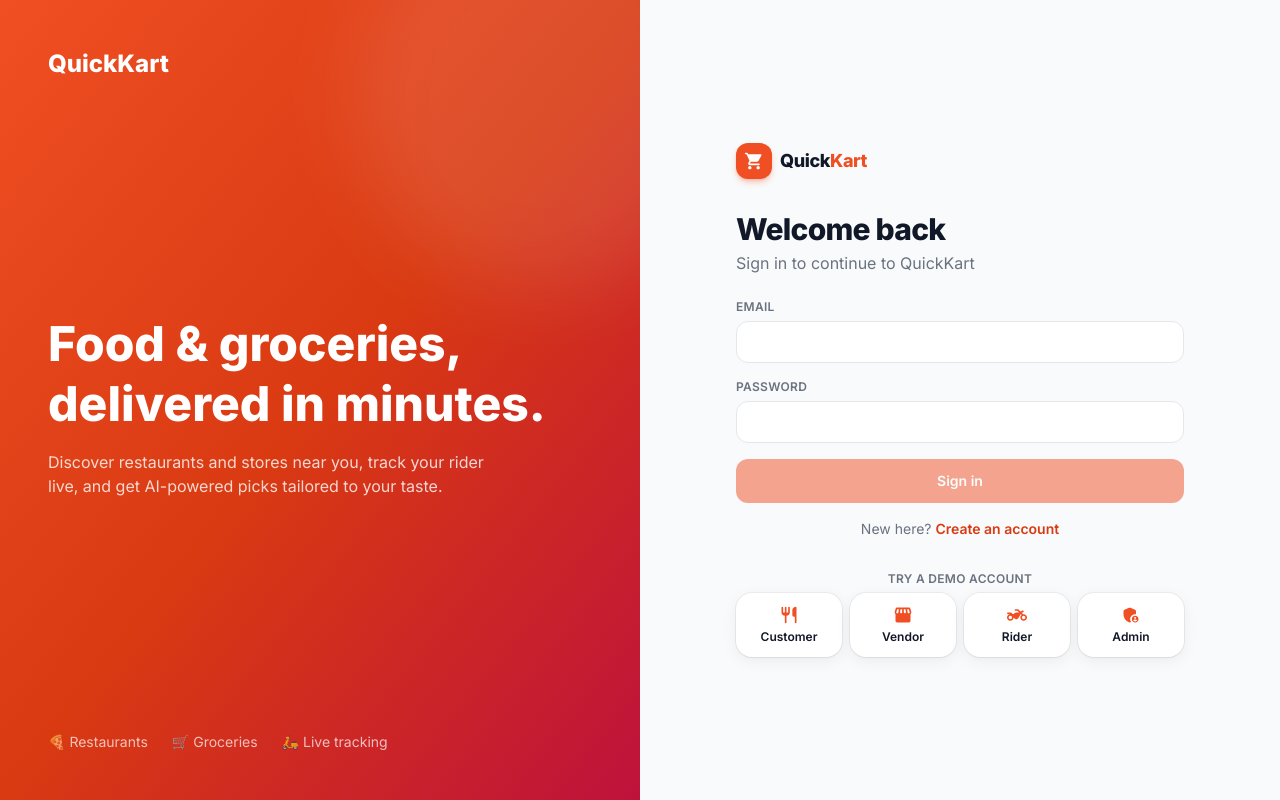
Scenario: Login page › shows the API error message on bad credentials
The width and height of the screenshot is (1280, 800).
Step 1. Type "x@y.com" into the field labelled "Email" → (960, 342), box 736,321 -> 1184,363
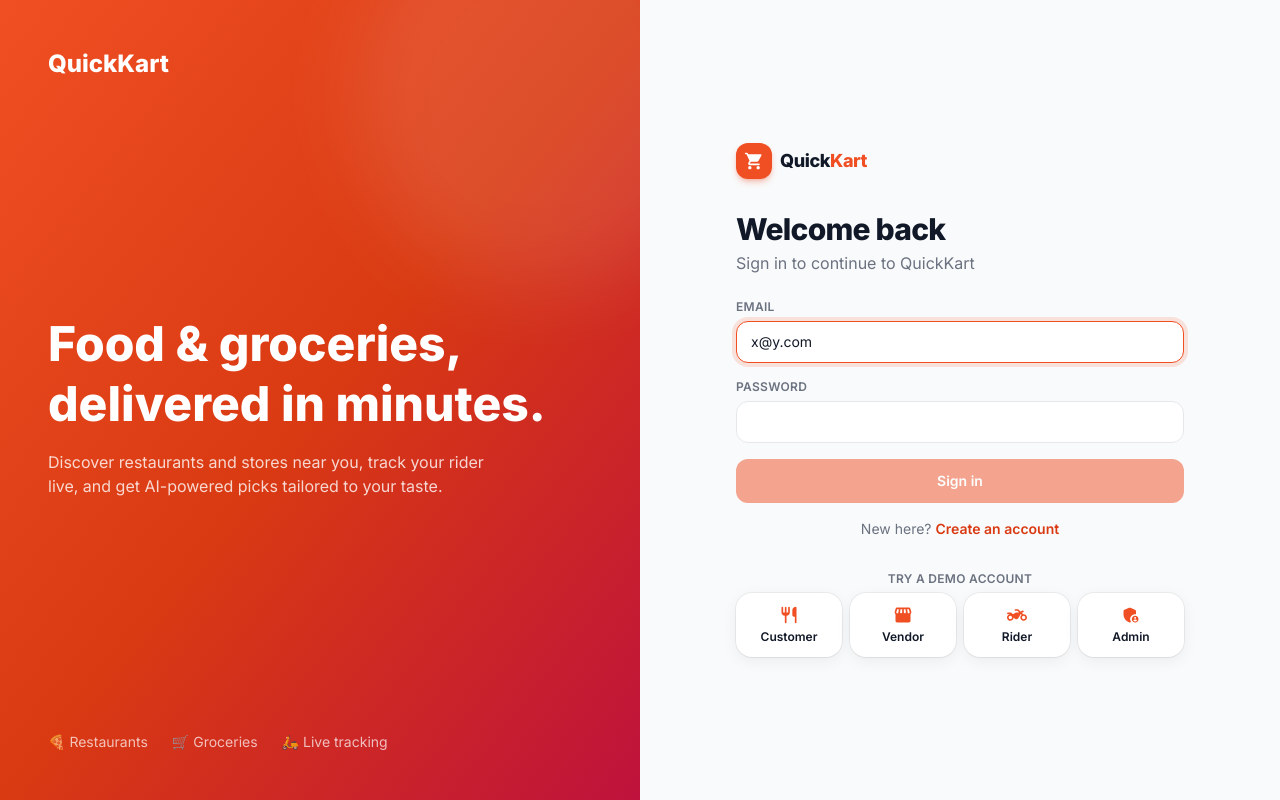
Step 2. Type "wrongpass" into the password field labelled "Password" → (960, 422), box 736,401 -> 1184,443
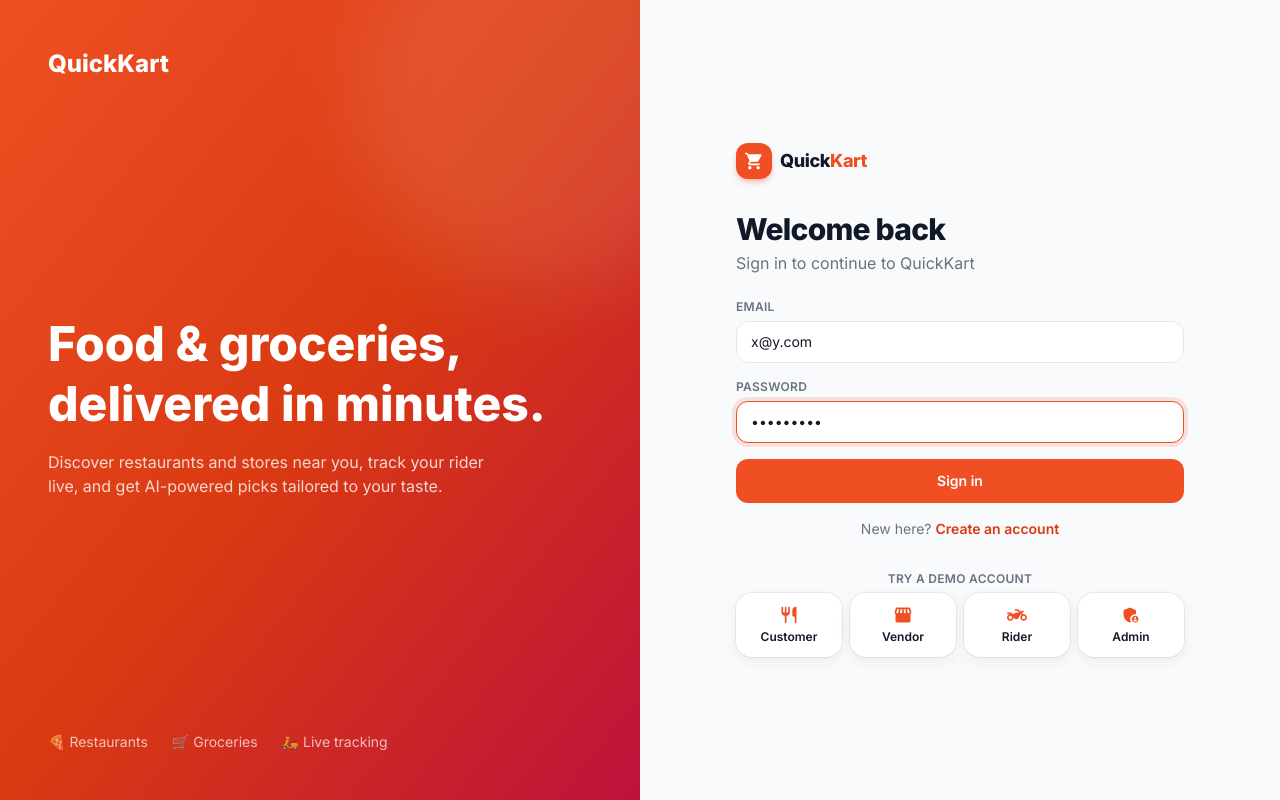
Step 3. Click the button "Sign in" → (960, 481), box 736,459 -> 1184,503
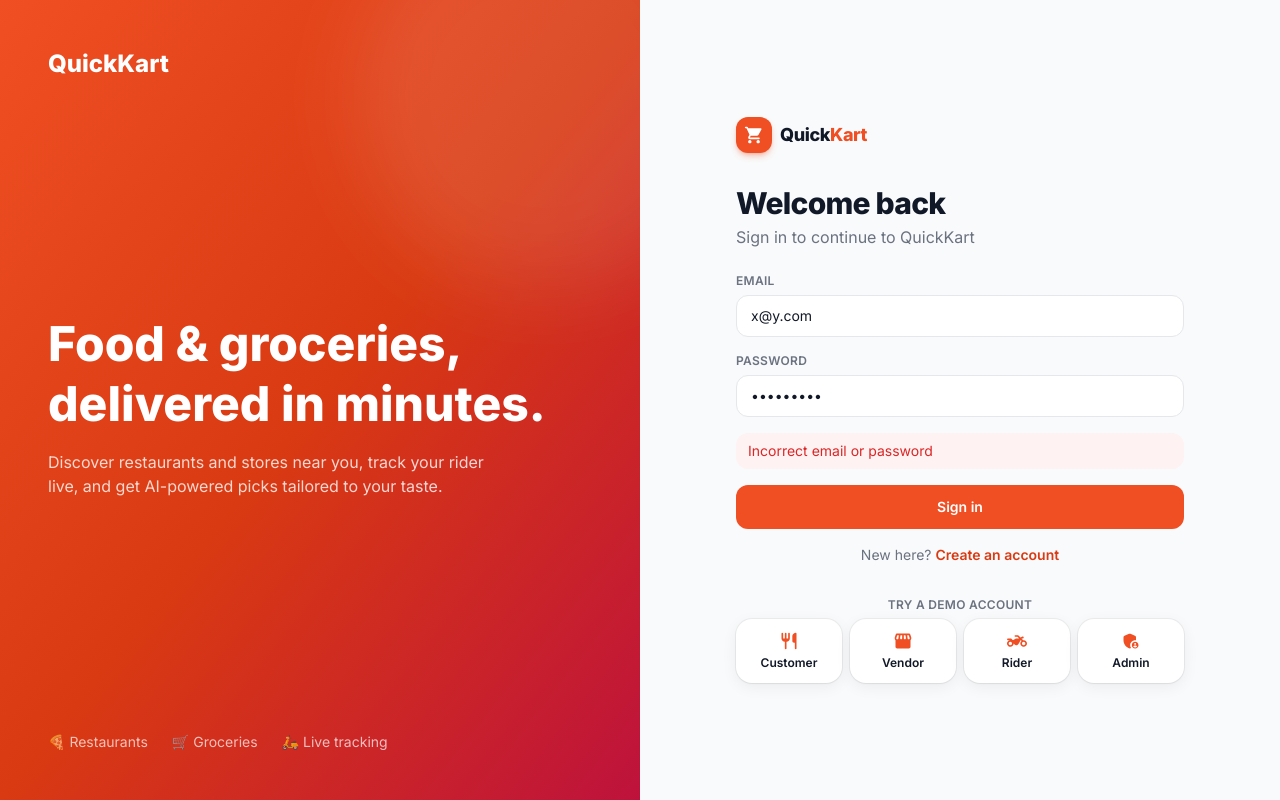
Now the message reads "Incorrect email or password", box 748,442 -> 933,459
